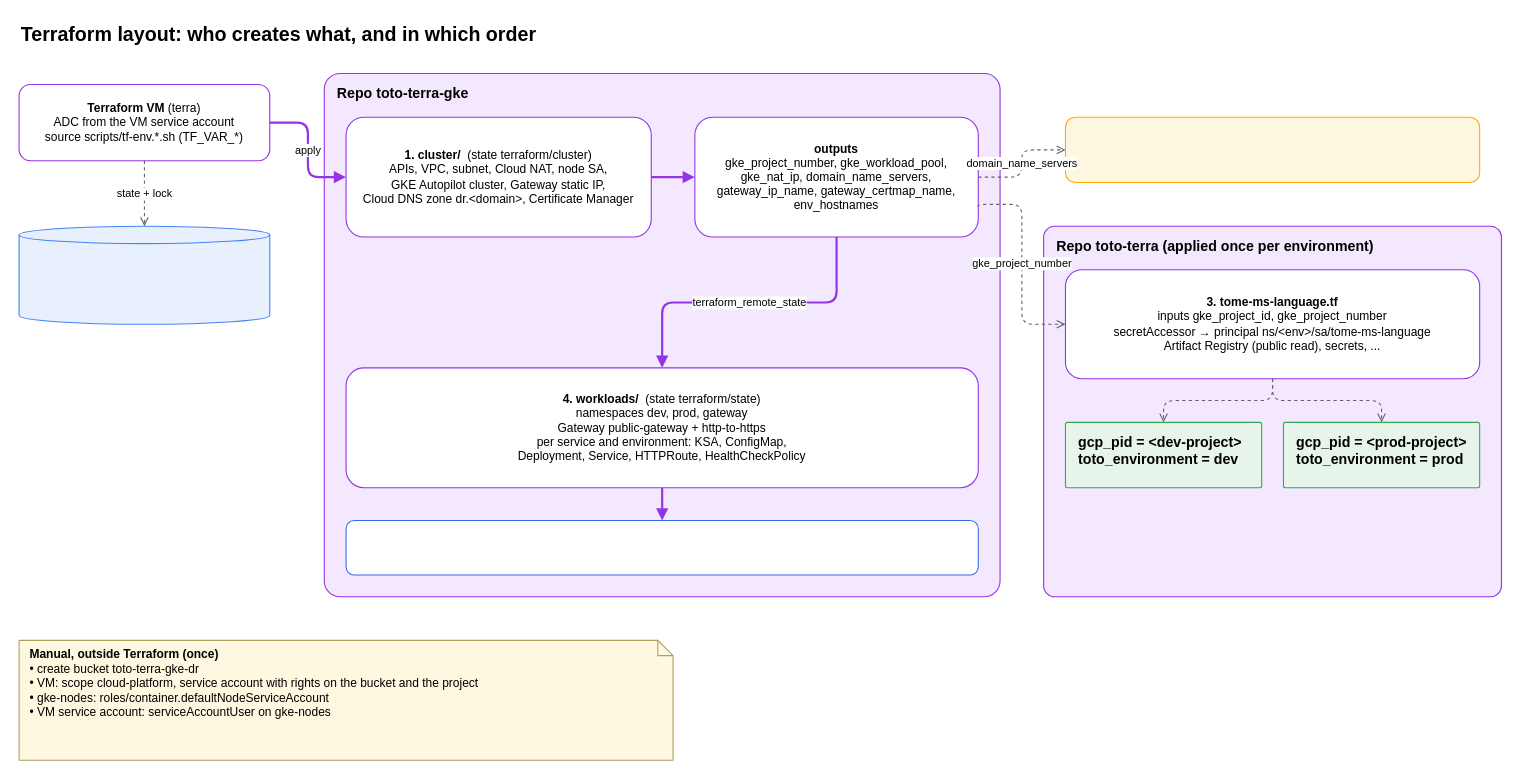
Some shapes in this 1521 by 779 pixel diagram are drawn without their labels. The centre of each missing label's shape, as x and y in pixels:
2. Registrar (manual) 4 NS records dr → domain_name_servers: [1272,149]
GCS bucket toto-terra-gke-dr terraform/cluster terraform/state: [144,274]
Kubernetes API of the cluster (kubernetes provider, token of the VM identity): [661,547]
